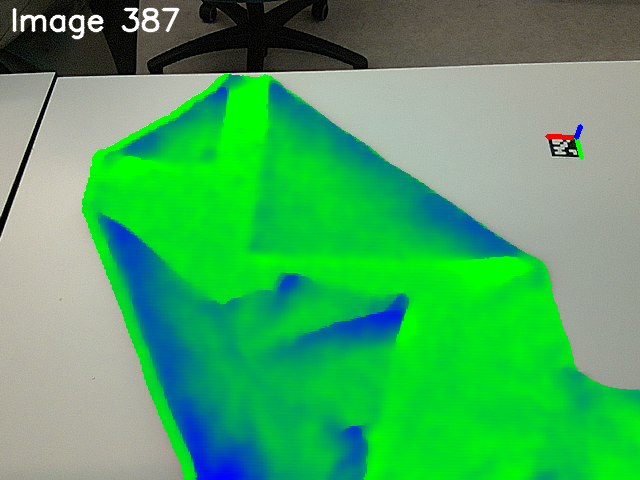V: (235, 197, 317, 265), (170, 136, 232, 173)
